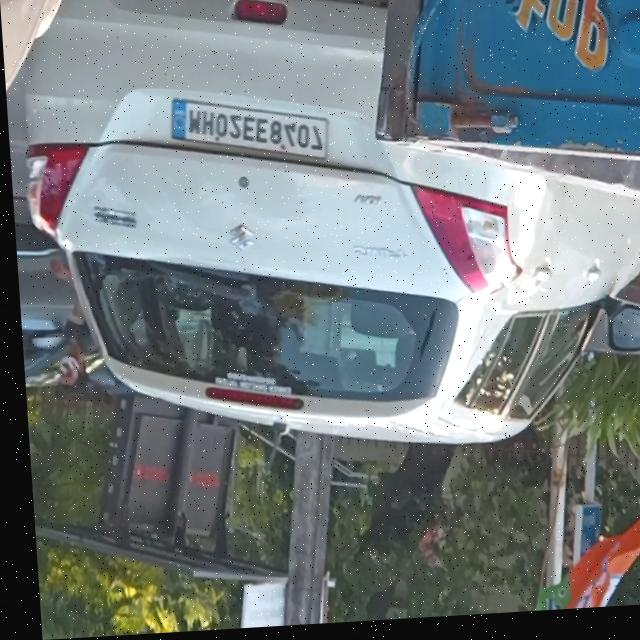plate: (168, 92, 329, 174)
